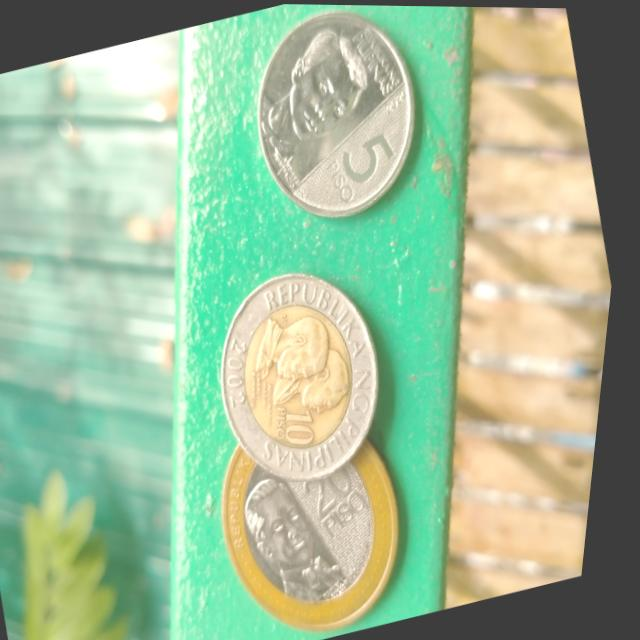10_Old_Front: (265, 384, 340, 464)
20_New_Front: (285, 427, 397, 548)
5_New_Front: (309, 110, 416, 216)
